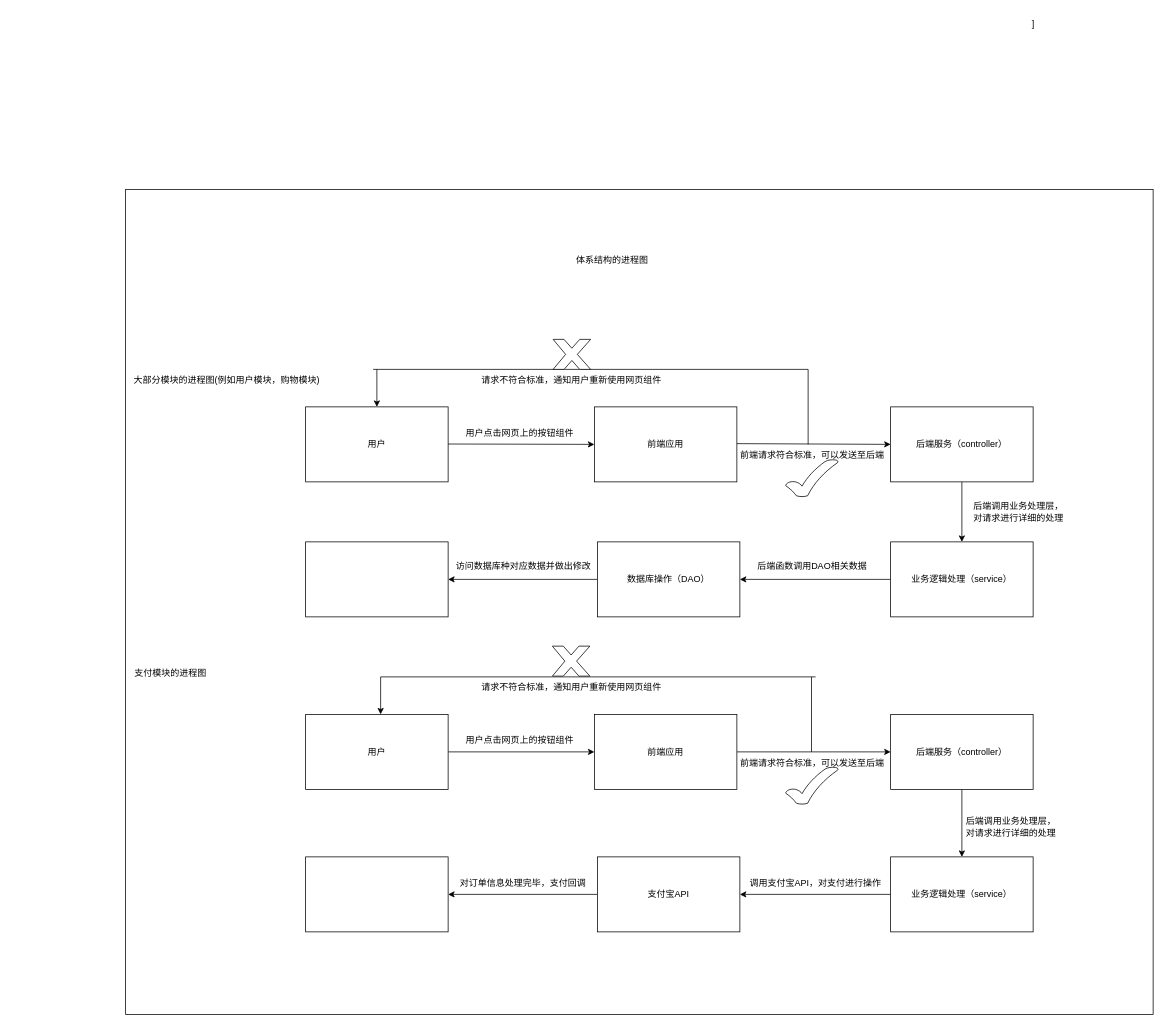
The diagram is 1166 pixels wide and 1028 high, and some of its shapes have lost their labels. The centre of each missing label's shape, as x and y in pixels:
MySQL数据库: the point at 376,579
支付回调: the point at 376,894
